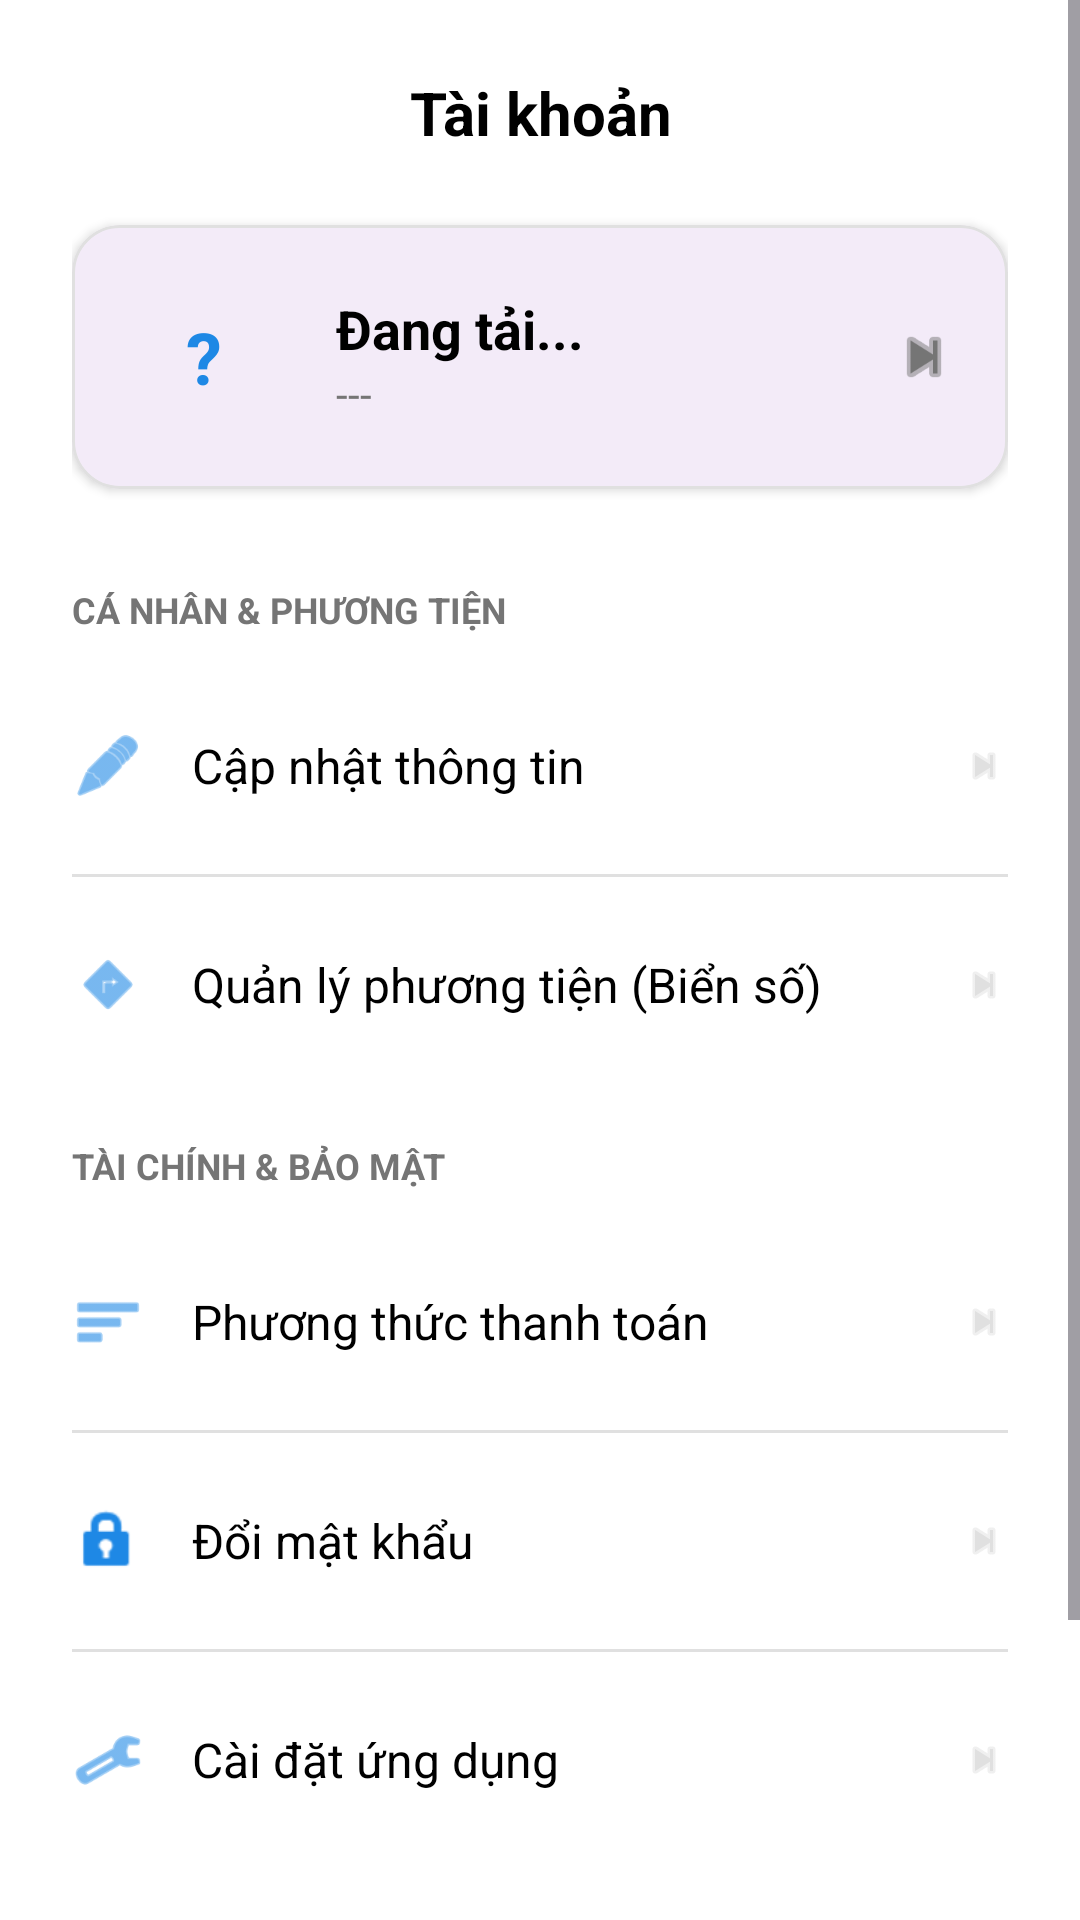

Named icons in this screenshot (1080×1920) and their bounding boxes, bbox(x1, y1, x2, y2):
directions: bbox(83, 960, 133, 1009)
edit: bbox(77, 735, 138, 796)
lock idle: bbox(83, 1511, 130, 1566)
preferences: bbox(75, 1735, 140, 1785)
sort by size: bbox(77, 1302, 139, 1343)
